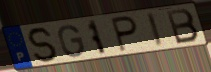1: (86, 18, 109, 57)
B: (164, 8, 201, 46)
G: (57, 24, 86, 59)
I: (145, 11, 166, 49)
P: (109, 15, 139, 54)
S: (26, 26, 61, 64)
